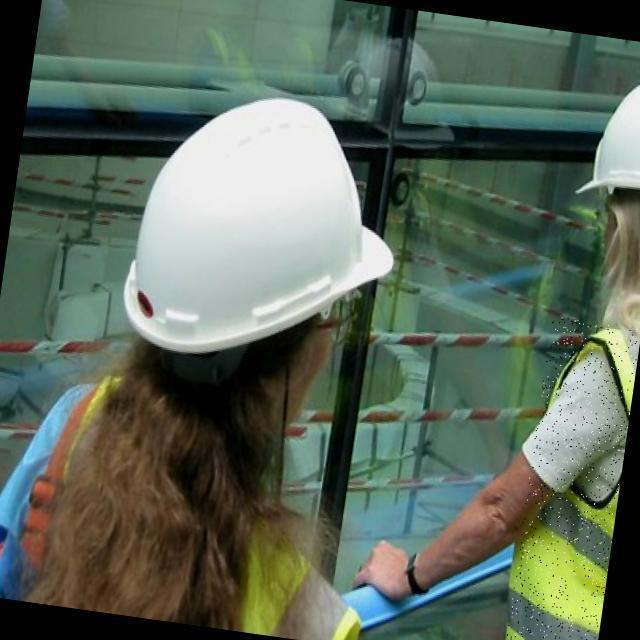helmet: (117, 89, 399, 356), (574, 80, 640, 209)
vest: (502, 316, 640, 640)
